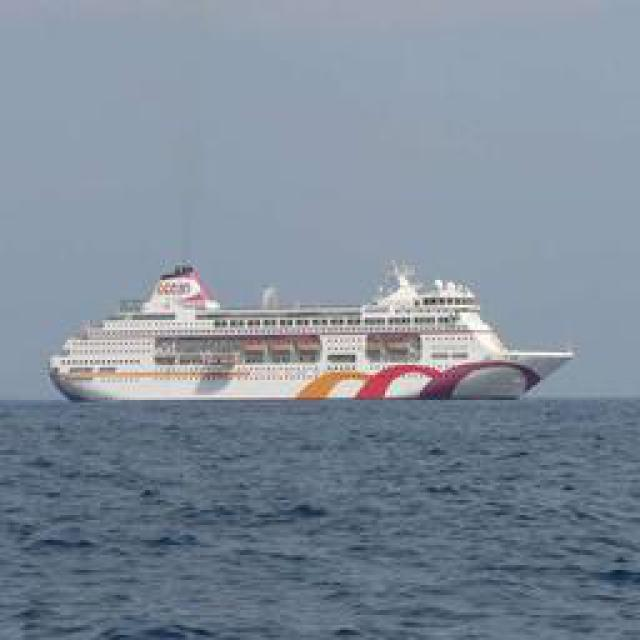Ship: (51, 258, 579, 406)
